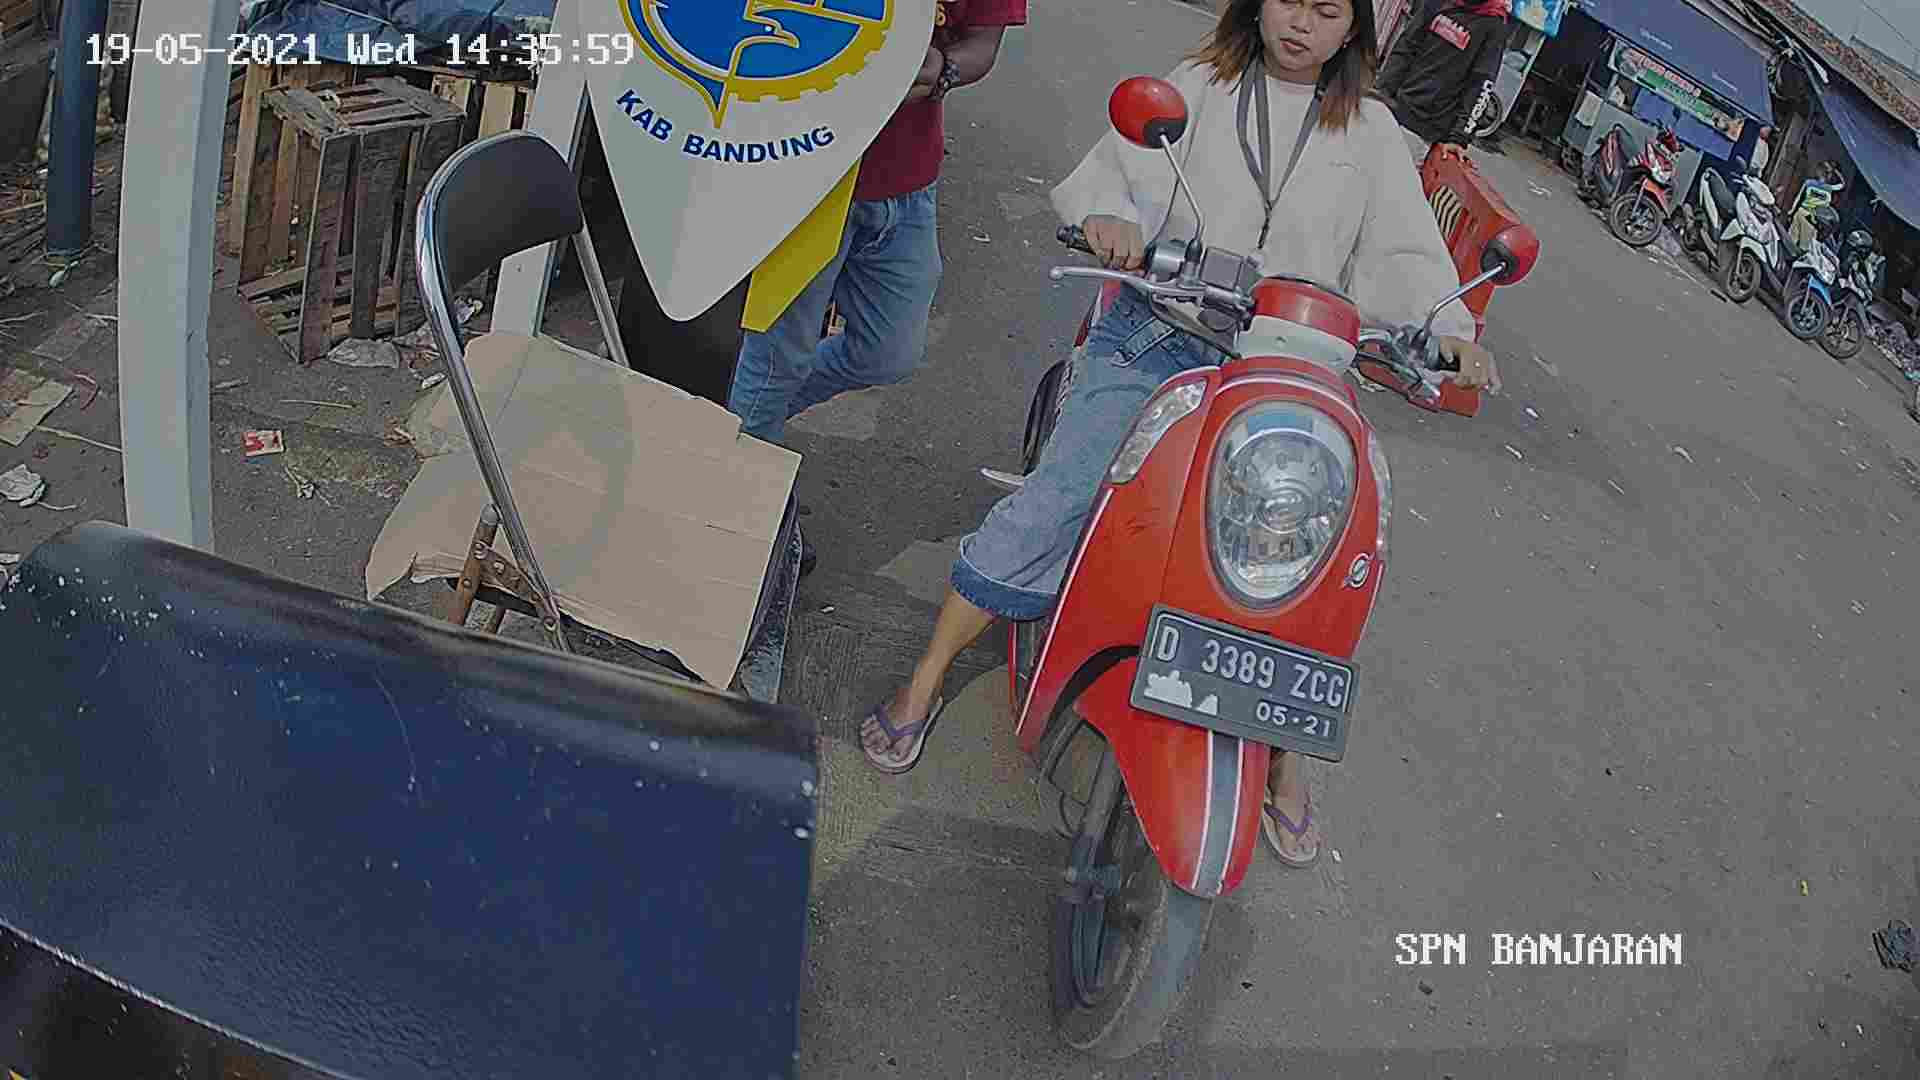motor: (982, 235, 1396, 1077)
